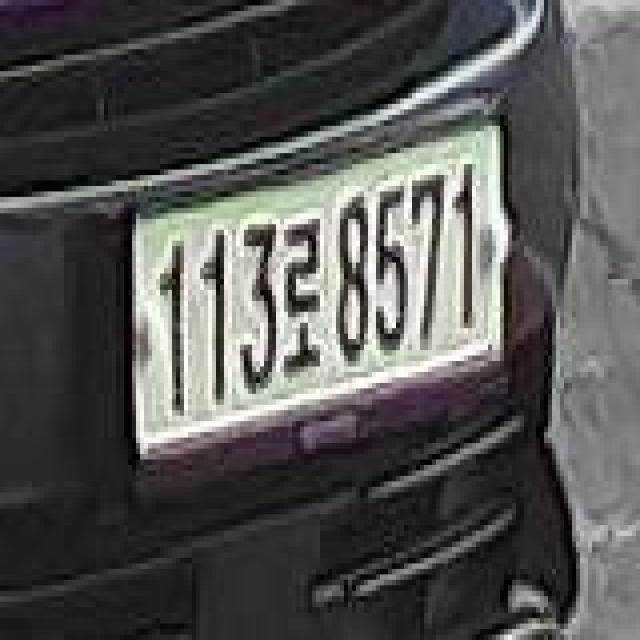illegal_plate: (119, 110, 513, 477)
